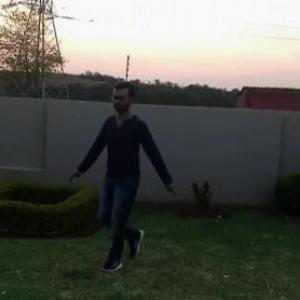land: (68, 76, 194, 287)
